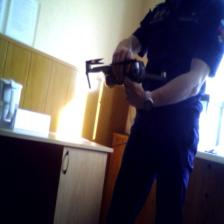drone: (82, 45, 177, 110)
